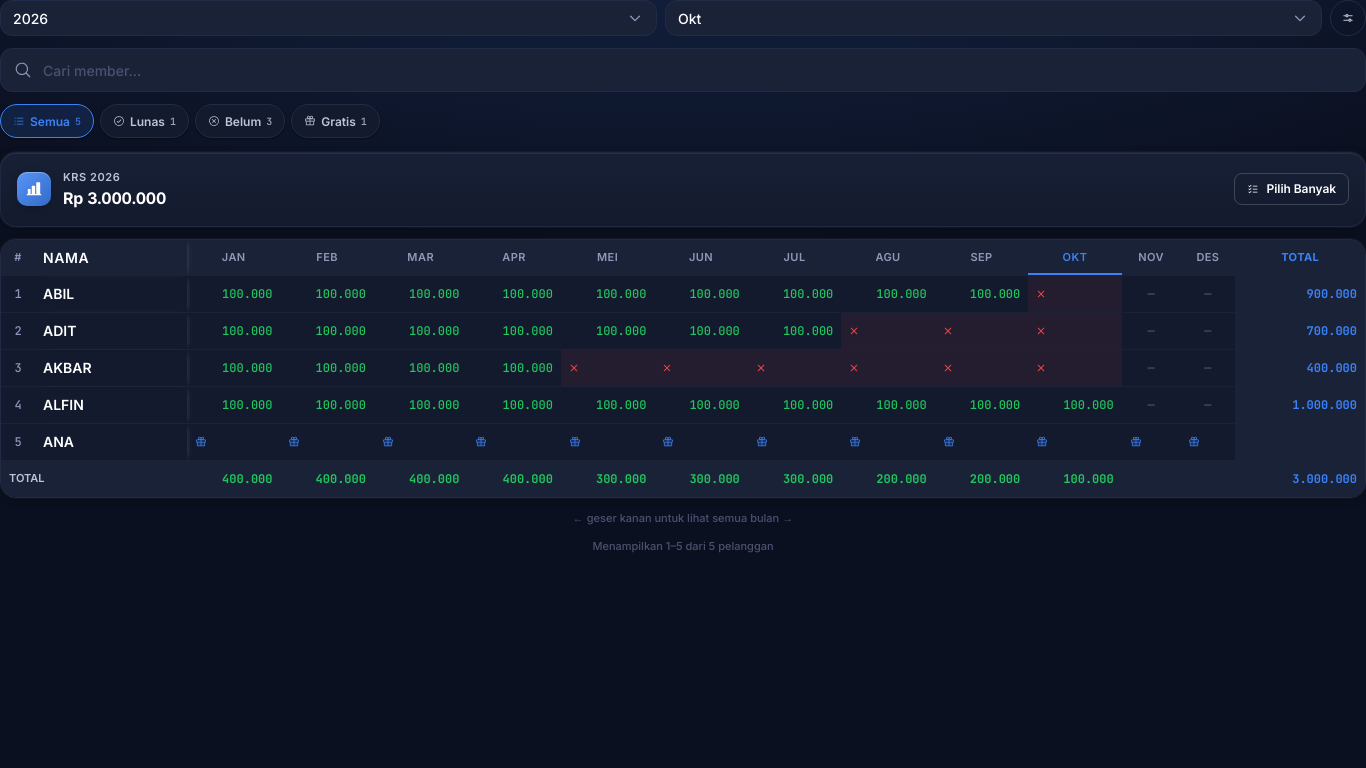
RekapView (T8) › Pilih Semua memilih semua sel belum bayar (lintas daftar terfilter) lalu Batalkan Semua mengosongkan
This screenshot has width=1366, height=768.
Click the button "Pilih Banyak". click: (1291, 189)
box: [1234, 173, 1349, 205]
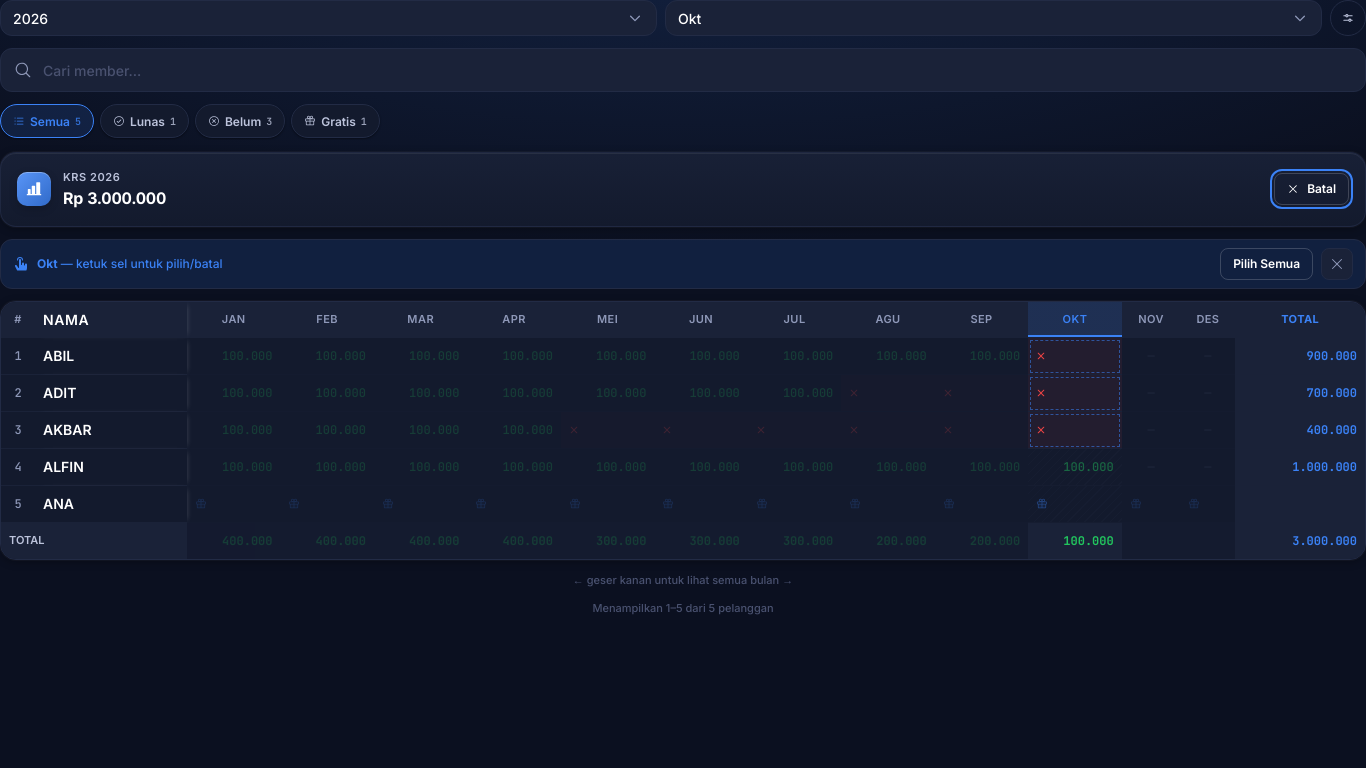
Click the button "Pilih Semua". click: (1267, 264)
box: [1220, 248, 1313, 280]
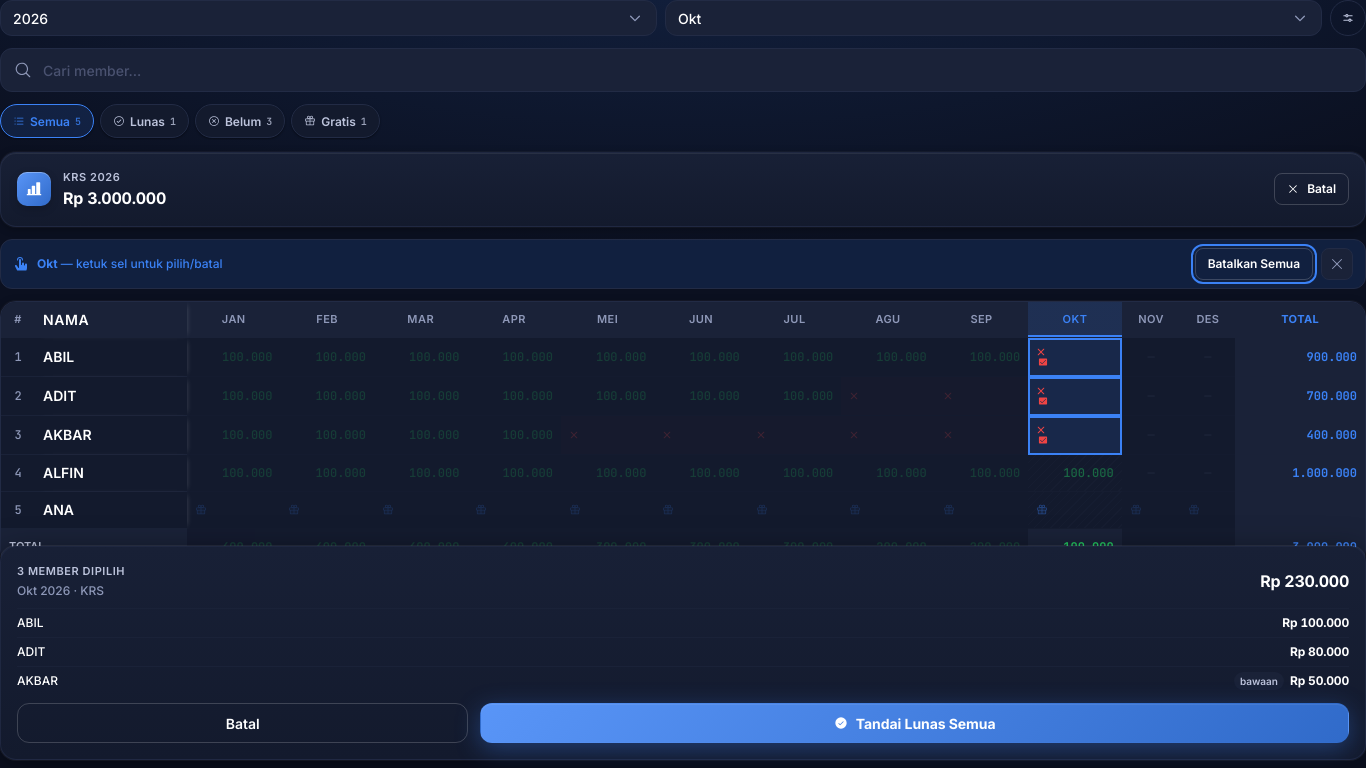
Now the text "3 Member Dipilih" is shown, box [17, 564, 125, 578]
Click the button "Batalkan Semua". click: (1254, 264)
box: [1195, 248, 1313, 280]
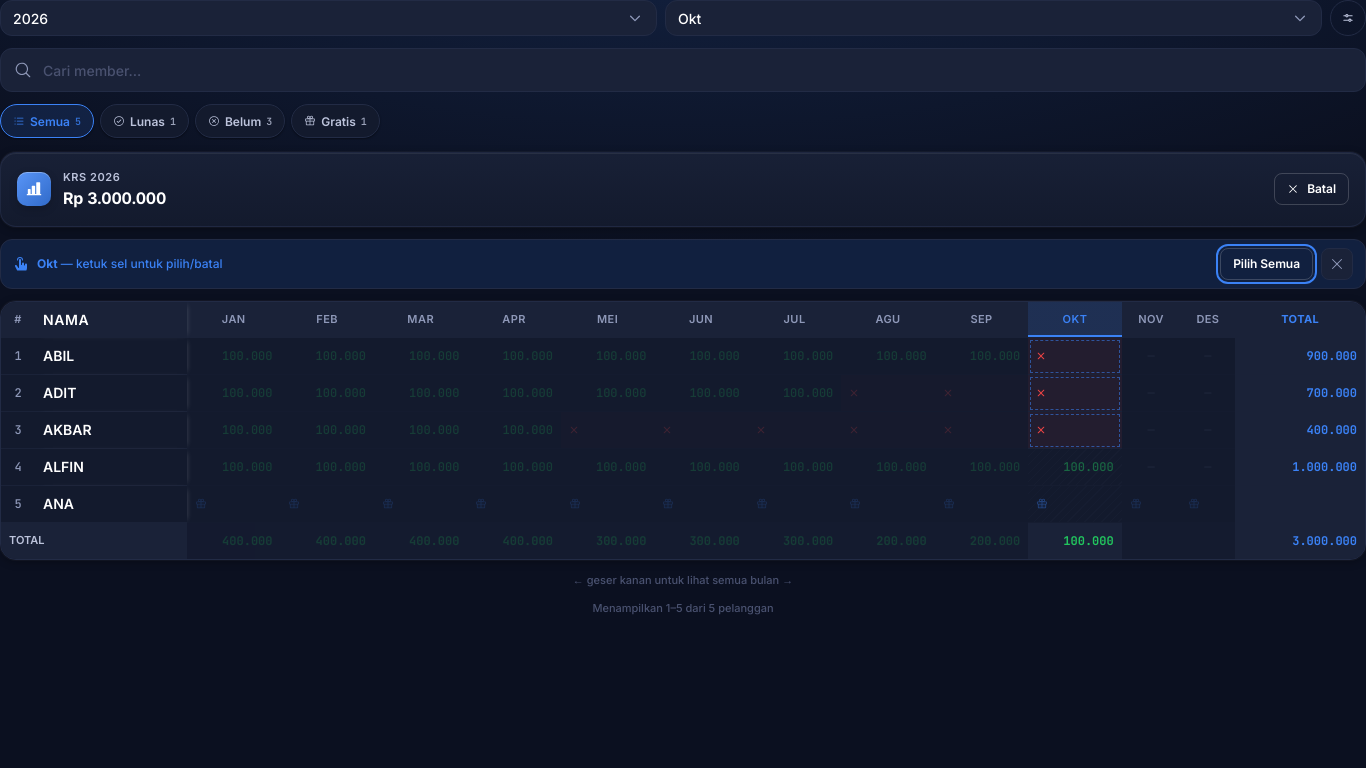
Now the element with test id "rekap-batch-sheet" is gone
